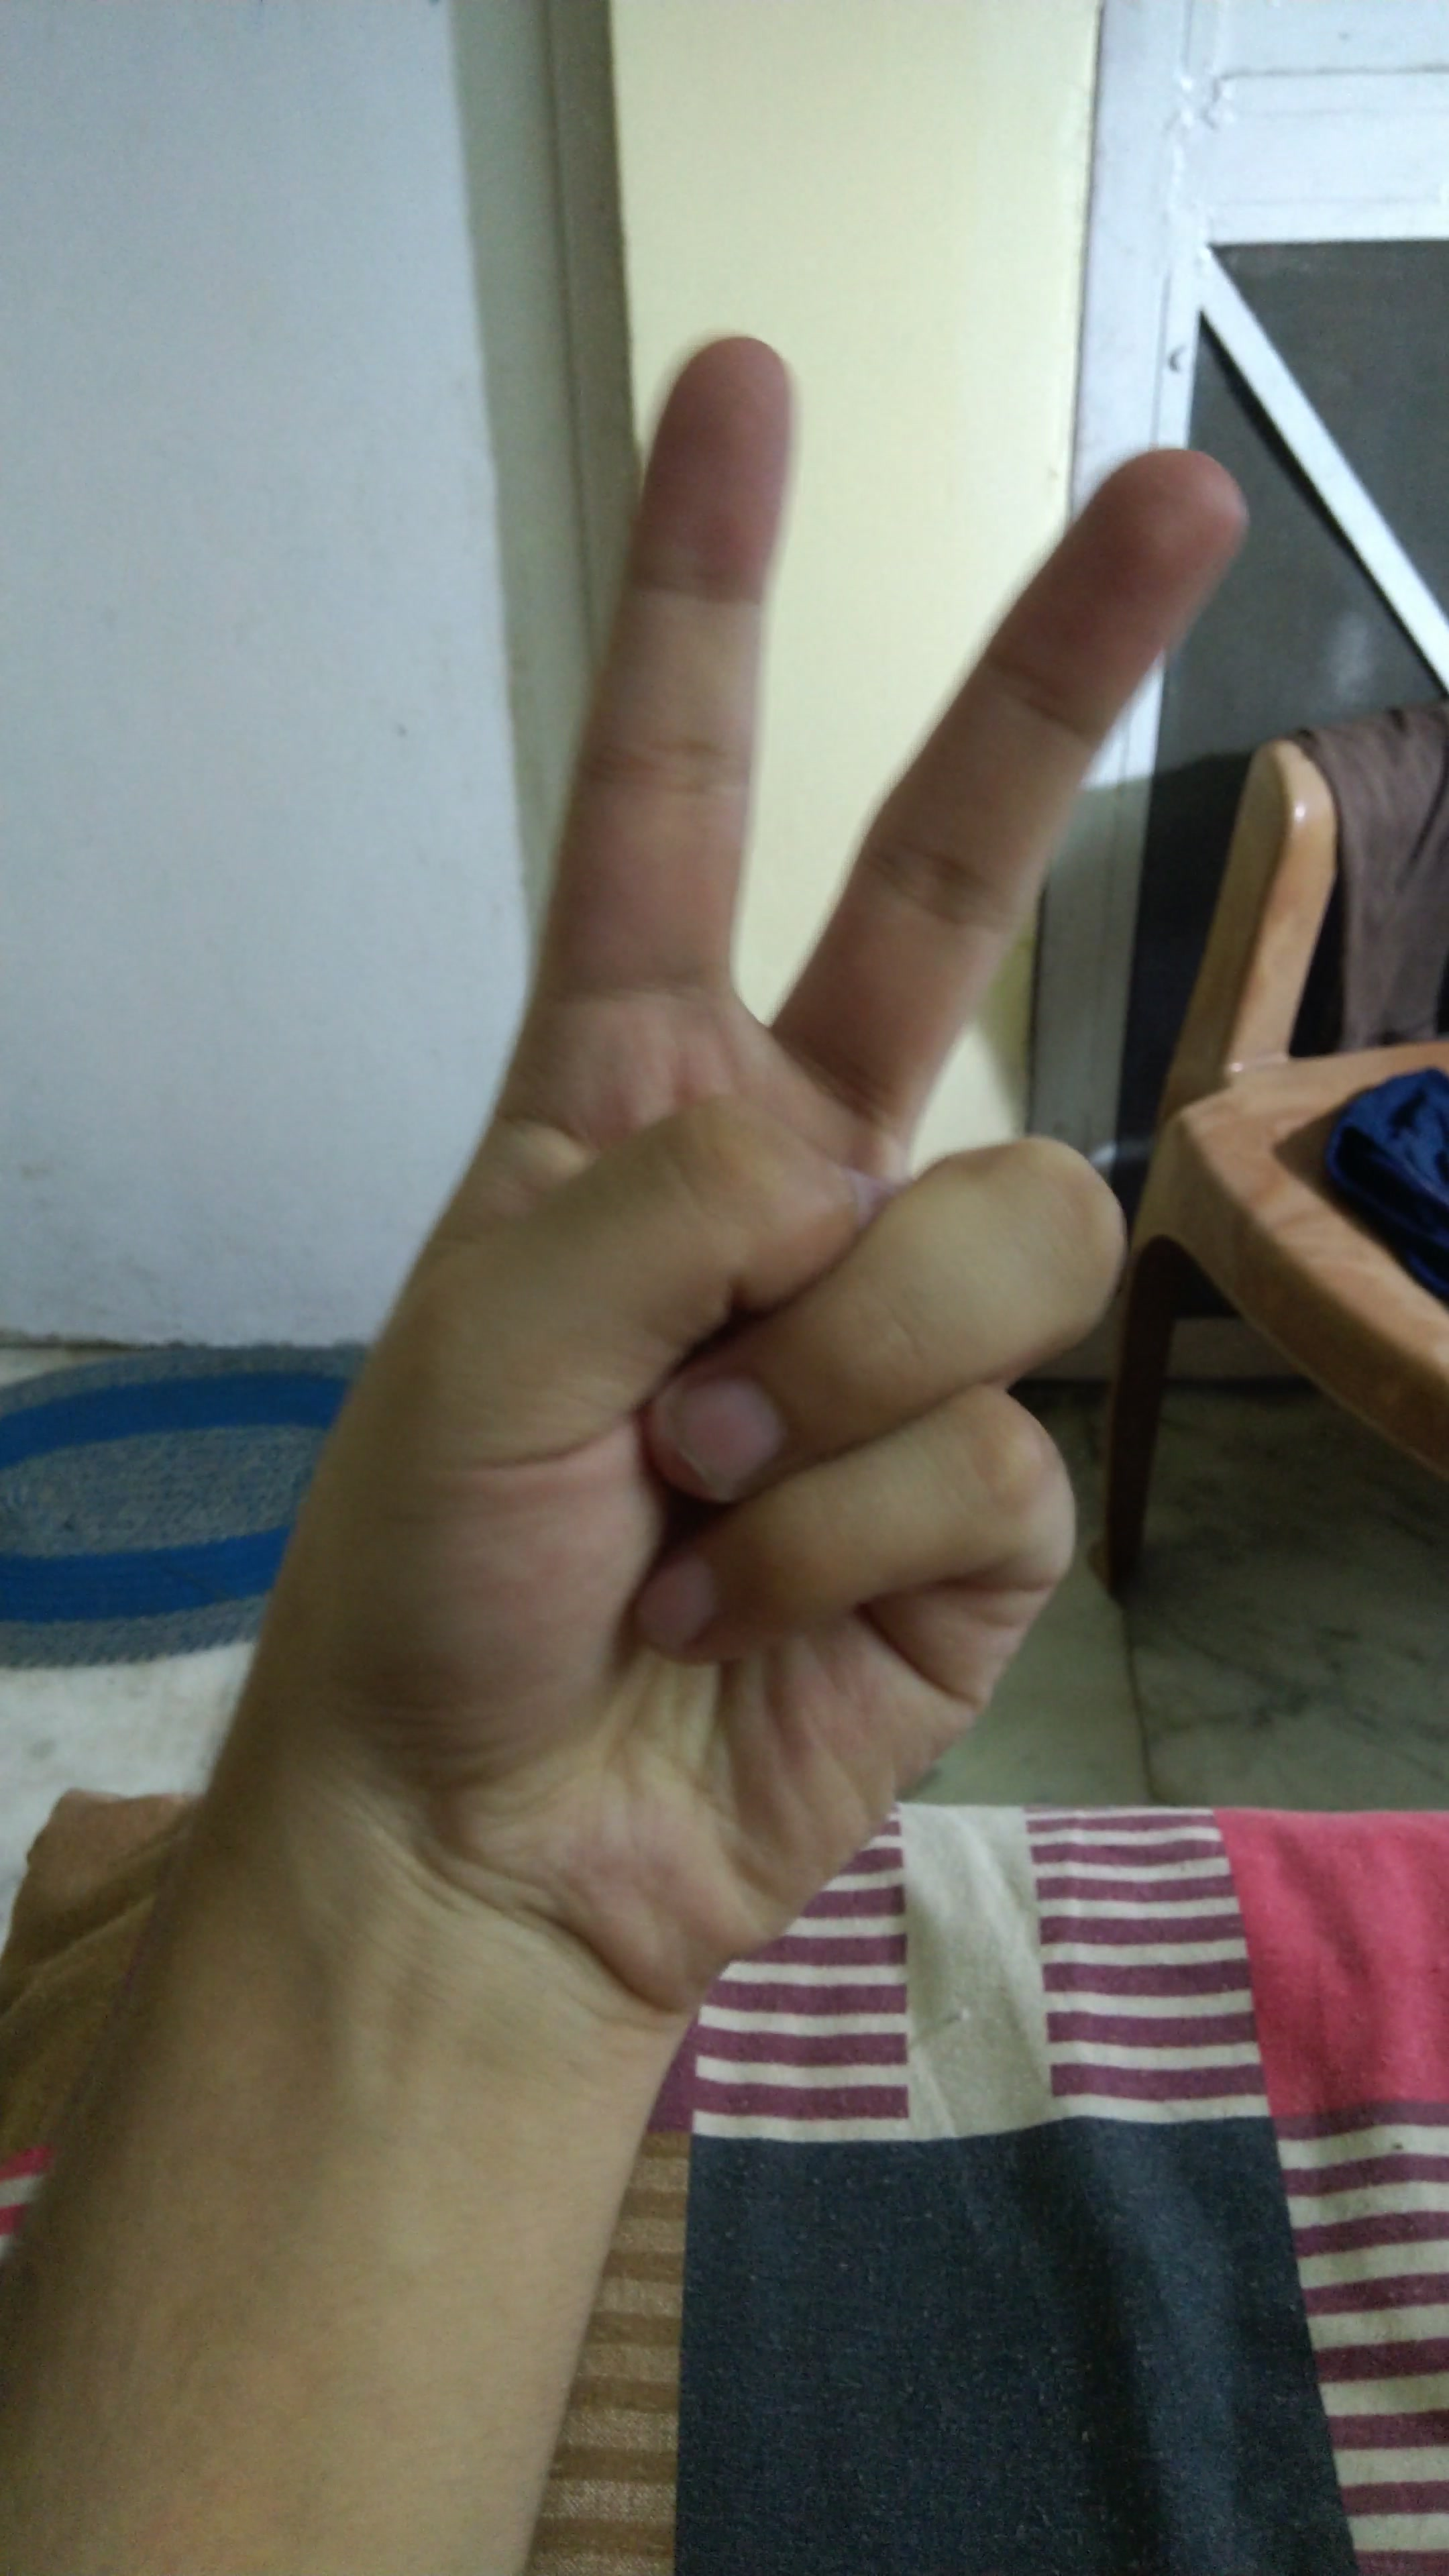hand: (157, 306, 1293, 2029)
